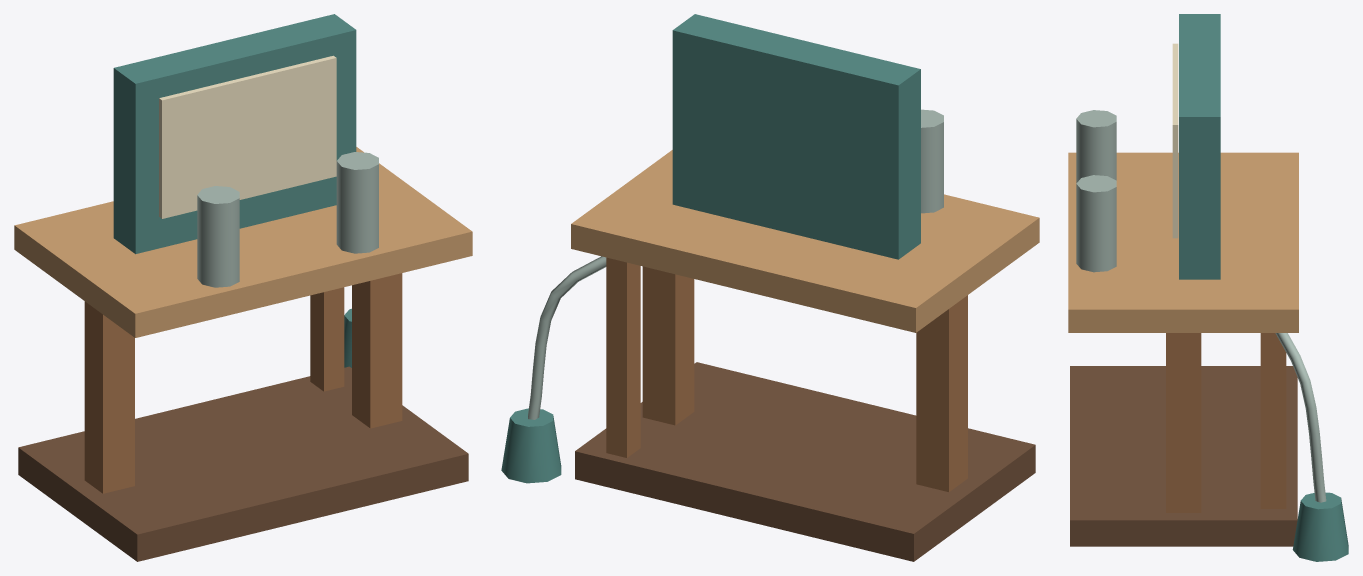
Rendered from water-quality-station.glb.
3 views of the same model, side by side, from view 1: azimuth 30°, elevation 25°; view 2: azimuth 150°, elevation 25°; view 3: azimuth 270°, elevation 25° (orthographic). The views are drawn at different scales.
Visible parts, largest first — view 1: water-quality-station_woodDark, water-quality-station_woodLight, water-quality-station_teal, water-quality-station_cream, water-quality-station_wood, water-quality-station_metal; view 2: water-quality-station_teal, water-quality-station_woodDark, water-quality-station_woodLight, water-quality-station_wood, water-quality-station_metal; view 3: water-quality-station_woodDark, water-quality-station_woodLight, water-quality-station_teal, water-quality-station_wood, water-quality-station_metal, water-quality-station_cream.
Part boxes in pixels (left/top/right/bottom): water-quality-station_woodDark: left=18, top=366, right=468, bottom=561; water-quality-station_woodLight: left=14, top=147, right=472, bottom=337; water-quality-station_teal: left=113, top=14, right=356, bottom=367; water-quality-station_cream: left=159, top=55, right=336, bottom=218; water-quality-station_wood: left=84, top=273, right=402, bottom=493; water-quality-station_metal: left=197, top=152, right=378, bottom=287; water-quality-station_teal: left=501, top=14, right=920, bottom=483; water-quality-station_woodDark: left=575, top=362, right=1035, bottom=561; water-quality-station_woodLight: left=571, top=150, right=1039, bottom=332; water-quality-station_wood: left=606, top=257, right=967, bottom=491; water-quality-station_metal: left=528, top=109, right=943, bottom=419; water-quality-station_woodDark: left=1070, top=366, right=1297, bottom=546; water-quality-station_woodLight: left=1068, top=152, right=1298, bottom=332; water-quality-station_teal: left=1179, top=14, right=1348, bottom=561; water-quality-station_wood: left=1166, top=333, right=1286, bottom=512; water-quality-station_metal: left=1076, top=110, right=1326, bottom=502; water-quality-station_cream: left=1172, top=43, right=1178, bottom=238.
Size of the model in its own units: 1.34 by 1.39 by 0.8746.
